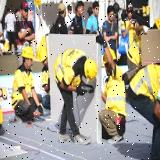Helmet: (85, 57, 97, 79), (104, 47, 118, 65), (22, 45, 34, 61)
